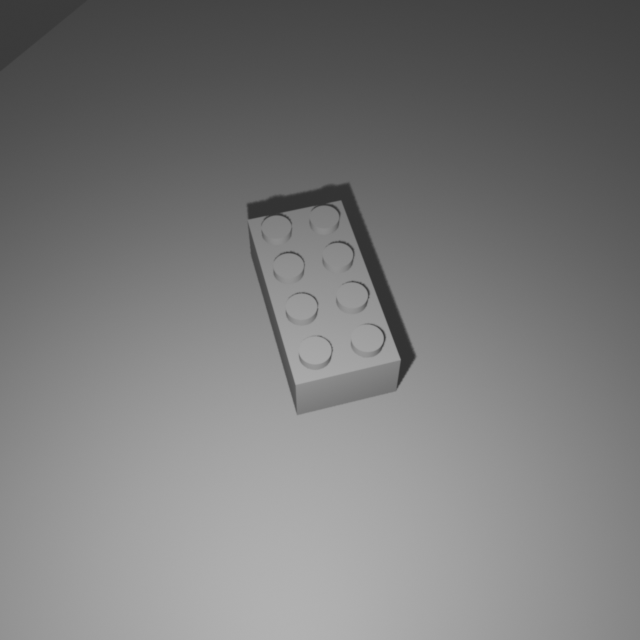lego_2x4: (247, 194, 402, 415)
